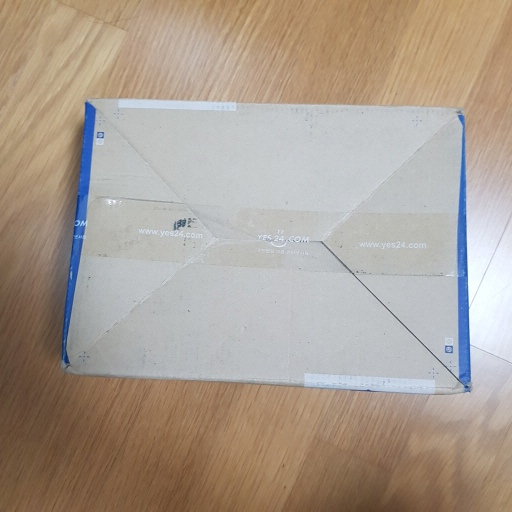Paper_0: (56, 89, 484, 399)
